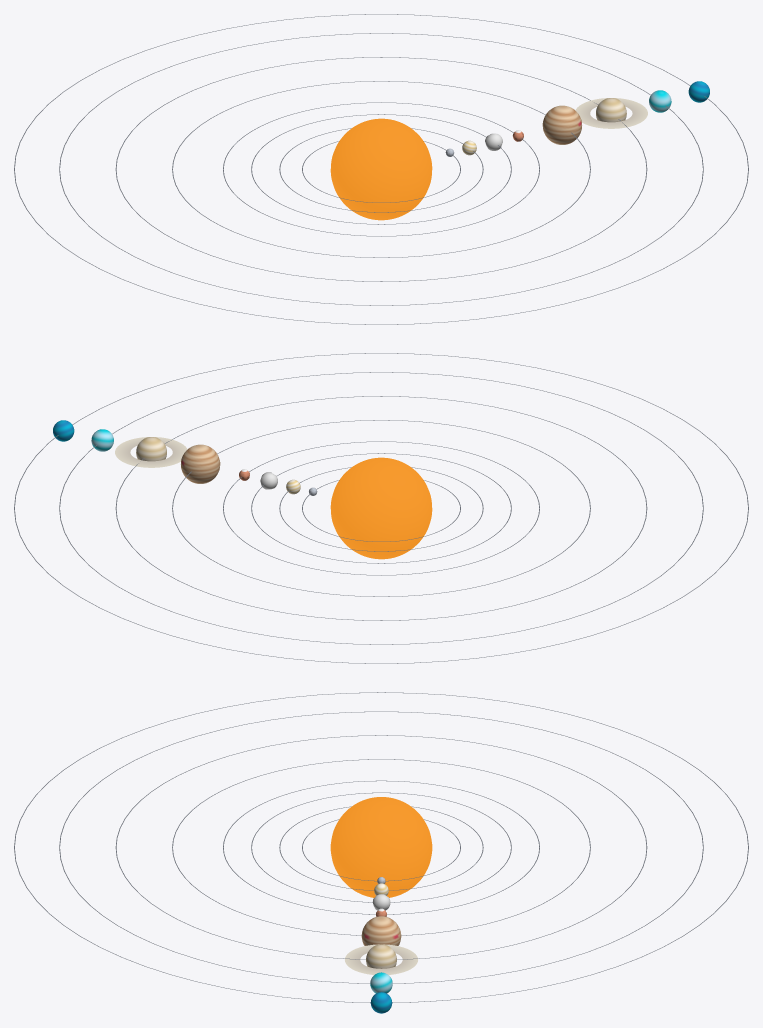
The model's file is solar-system.glb.
The picture shows the model from 3 angles, top to bottom: view 1: azimuth 30°, elevation 25°; view 2: azimuth 150°, elevation 25°; view 3: azimuth 270°, elevation 25°; orthographic projection.
Visible parts, largest first — view 1: Sun, Orbit_Neptune, Orbit_Uranus, Orbit_Saturn, Jupiter, SaturnRings, Orbit_Jupiter, Orbit_Mars, Orbit_Earth, Saturn; view 2: Sun, Orbit_Neptune, Orbit_Uranus, Orbit_Saturn, Jupiter, SaturnRings, Orbit_Jupiter, Orbit_Mars, Orbit_Earth, Saturn; view 3: Sun, Orbit_Neptune, Orbit_Uranus, Orbit_Saturn, SaturnRings, Orbit_Jupiter, Jupiter, Orbit_Mars, Orbit_Earth, Saturn.
Boxes of the visible parts, x1,y1,x2,y2 form: Sun: (330, 118, 432, 220); Orbit_Neptune: (14, 14, 748, 324); Orbit_Uranus: (59, 33, 703, 305); Orbit_Saturn: (115, 57, 647, 281); Jupiter: (542, 105, 581, 144); SaturnRings: (575, 98, 647, 128); Orbit_Jupiter: (172, 81, 590, 257); Orbit_Mars: (223, 102, 539, 236); Orbit_Earth: (251, 114, 511, 224); Saturn: (596, 98, 626, 122); Sun: (330, 457, 432, 559); Orbit_Neptune: (14, 353, 748, 663); Orbit_Uranus: (59, 372, 703, 644); Orbit_Saturn: (115, 396, 647, 620); Jupiter: (181, 444, 220, 483); SaturnRings: (115, 437, 187, 467); Orbit_Jupiter: (172, 420, 590, 596); Orbit_Mars: (223, 441, 539, 575); Orbit_Earth: (251, 453, 511, 563); Saturn: (136, 437, 166, 461); Sun: (330, 797, 432, 897); Orbit_Neptune: (14, 692, 748, 1002); Orbit_Uranus: (59, 711, 703, 983); Orbit_Saturn: (115, 735, 647, 959); SaturnRings: (345, 944, 417, 974); Orbit_Jupiter: (172, 759, 590, 935); Jupiter: (361, 916, 401, 945); Orbit_Mars: (223, 780, 539, 914); Orbit_Earth: (251, 792, 511, 902); Saturn: (366, 944, 396, 968).
Size of the model in its own units: 26.4 by 3.6 by 26.03.
